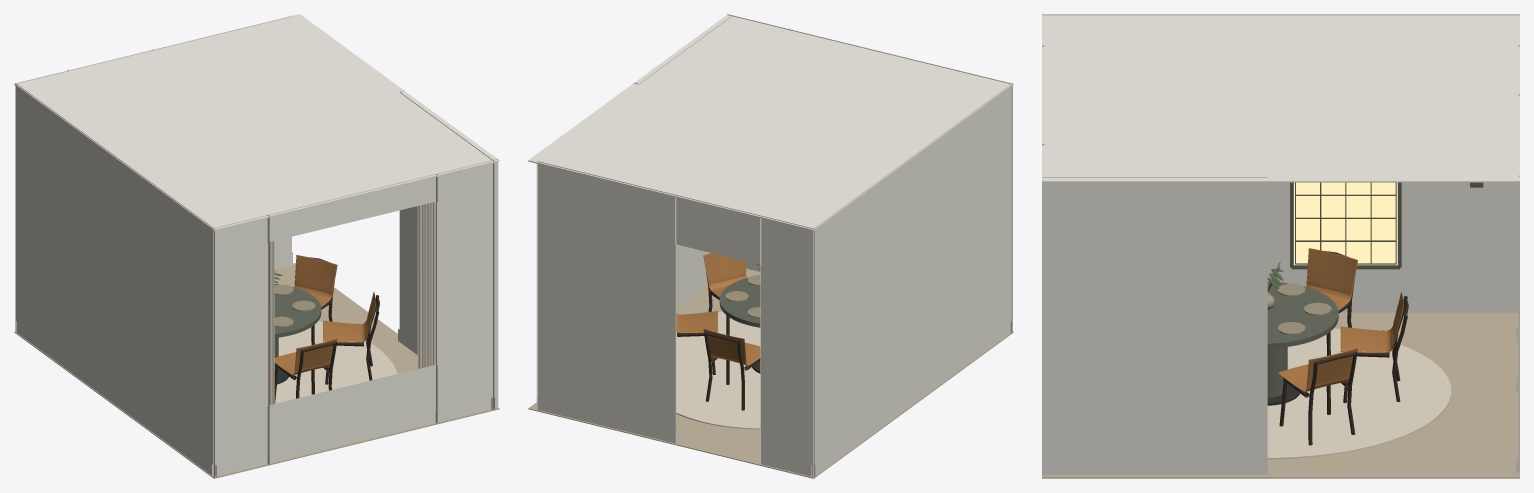
Rendered from dining-2.glb.
3 renders of one model, left to right at view 1: azimuth 30°, elevation 25°; view 2: azimuth 150°, elevation 25°; view 3: azimuth 270°, elevation 25°, orthographic. The views are drawn at different scales.
Parts seen in each view (by area): view 1: DESIGN | dining removable wall finish, DESIGN | dining ceiling finish, DESIGN | Dining ground, DESIGN | dining floor finish, DESIGN | Dining linen edge.001, DESIGN | Required Isadora dining chair 5, DESIGN | Required Isadora dining chair 1, DESIGN | Required Isadora dining chair 6, DESIGN | Dining table top, DESIGN | Dining linen edge; view 2: DESIGN | dining removable wall finish, DESIGN | dining ceiling finish, DESIGN | Dining ground, DESIGN | dining floor finish, DESIGN | Required Isadora dining chair 2, DESIGN | Required Isadora dining chair 6, DESIGN | Dining table top, DESIGN | Required Isadora dining chair 1; view 3: DESIGN | dining removable wall finish, DESIGN | dining ceiling finish, DESIGN | dining floor finish, DESIGN | Dining ground, DESIGN | Dining paired lit panels diffuse backing.001, DESIGN | Required Isadora dining chair 1, DESIGN | Dining table top, DESIGN | Required Isadora dining chair 3, DESIGN | Required Isadora dining chair 2, DESIGN | Kumiko | Dining paired lit panels.001, DESIGN | Dining table pedestal.
Boxes of the visible parts, x1,y1,x2,y2 form: DESIGN | dining removable wall finish: [15, 15, 498, 477]; DESIGN | dining ceiling finish: [14, 14, 499, 230]; DESIGN | Dining ground: [275, 321, 397, 403]; DESIGN | dining floor finish: [14, 263, 499, 478]; DESIGN | Dining linen edge.001: [417, 201, 435, 368]; DESIGN | Required Isadora dining chair 5: [274, 338, 337, 403]; DESIGN | Required Isadora dining chair 1: [294, 255, 337, 344]; DESIGN | Required Isadora dining chair 6: [323, 292, 379, 384]; DESIGN | Dining table top: [274, 284, 321, 337]; DESIGN | Dining linen edge: [268, 241, 274, 405]; DESIGN | dining removable wall finish: [536, 14, 1012, 477]; DESIGN | dining ceiling finish: [528, 14, 1013, 230]; DESIGN | Dining ground: [676, 311, 760, 429]; DESIGN | dining floor finish: [528, 268, 1013, 478]; DESIGN | Required Isadora dining chair 2: [703, 328, 760, 410]; DESIGN | Required Isadora dining chair 6: [703, 253, 746, 335]; DESIGN | Dining table top: [719, 277, 760, 327]; DESIGN | Required Isadora dining chair 1: [676, 310, 717, 374]; DESIGN | dining removable wall finish: [1042, 14, 1519, 474]; DESIGN | dining ceiling finish: [1042, 15, 1519, 182]; DESIGN | dining floor finish: [1042, 312, 1519, 478]; DESIGN | Dining ground: [1267, 328, 1451, 459]; DESIGN | Dining paired lit panels diffuse backing.001: [1294, 182, 1397, 264]; DESIGN | Required Isadora dining chair 1: [1277, 348, 1357, 445]; DESIGN | Dining table top: [1267, 281, 1338, 348]; DESIGN | Required Isadora dining chair 3: [1306, 248, 1357, 355]; DESIGN | Required Isadora dining chair 2: [1340, 292, 1408, 403]; DESIGN | Kumiko | Dining paired lit panels.001: [1290, 182, 1401, 269]; DESIGN | Dining table pedestal: [1267, 347, 1287, 397].
Size of the model in its own units: 3.28 by 2.74 by 3.98.
